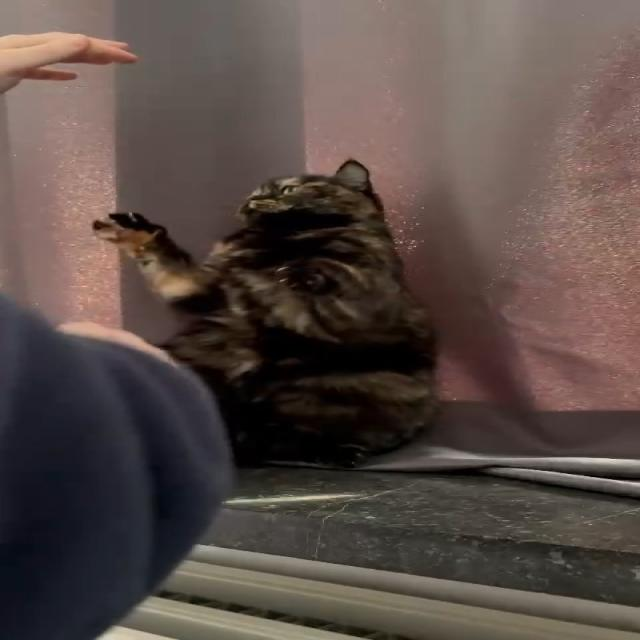authorized: (90, 157, 442, 469)
